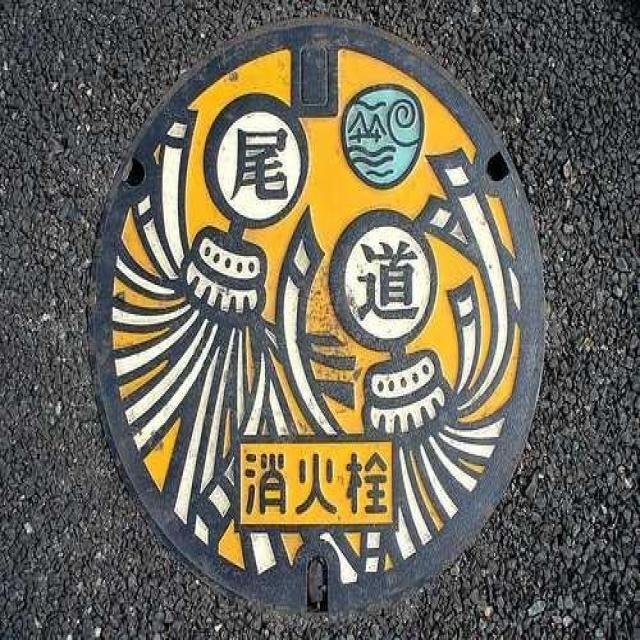manhole: (96, 22, 544, 612)
